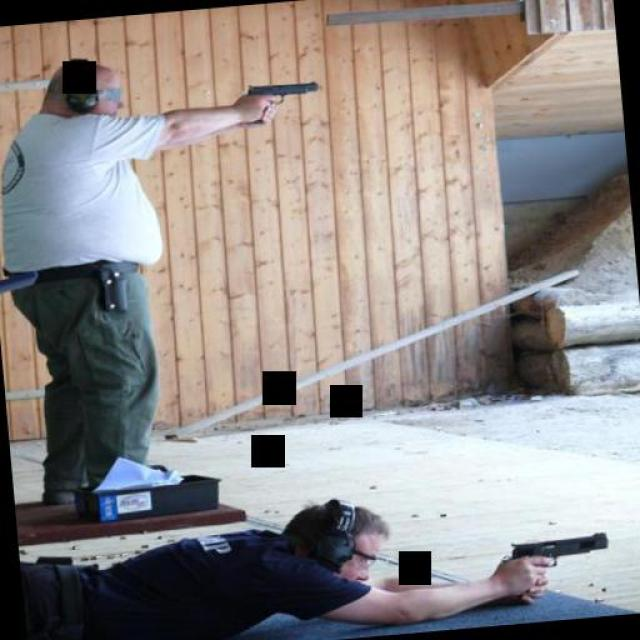gun: (496, 526, 620, 610), (215, 63, 335, 134)
